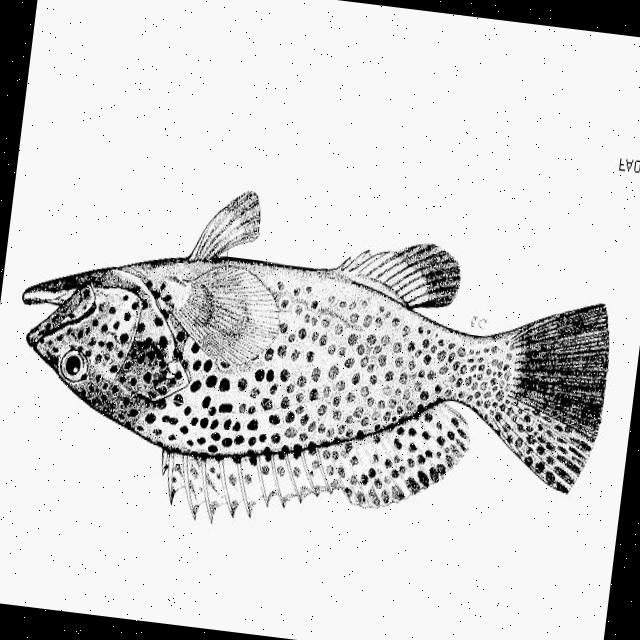ikan: (0, 164, 624, 571)
